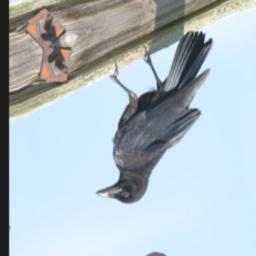Crow: (62, 24, 249, 216)
